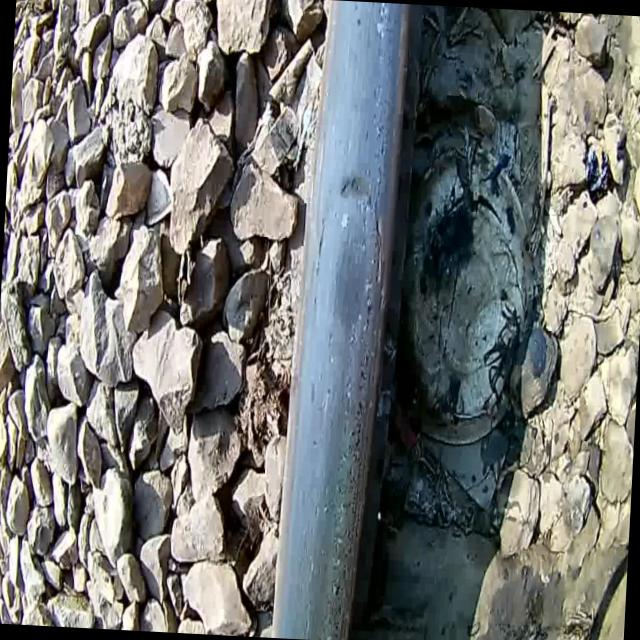Squats: (254, 0, 429, 640)
